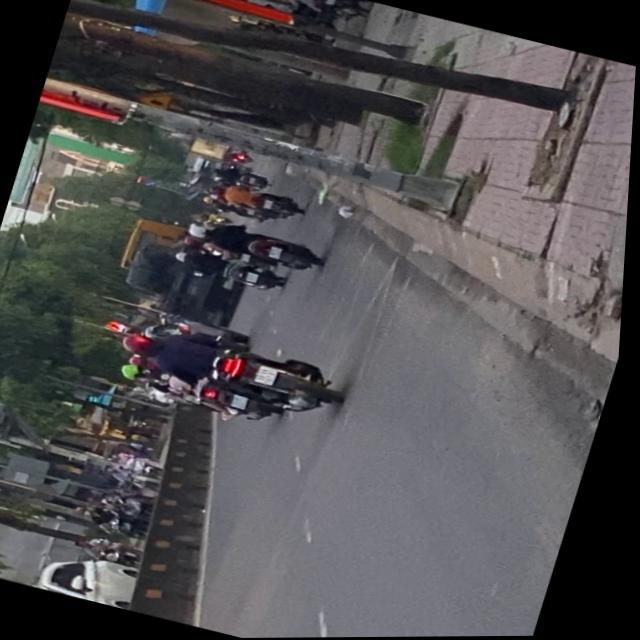helmet: (122, 328, 163, 359)
licenseplate: (112, 312, 356, 424)
nohelmet: (256, 364, 281, 386)
